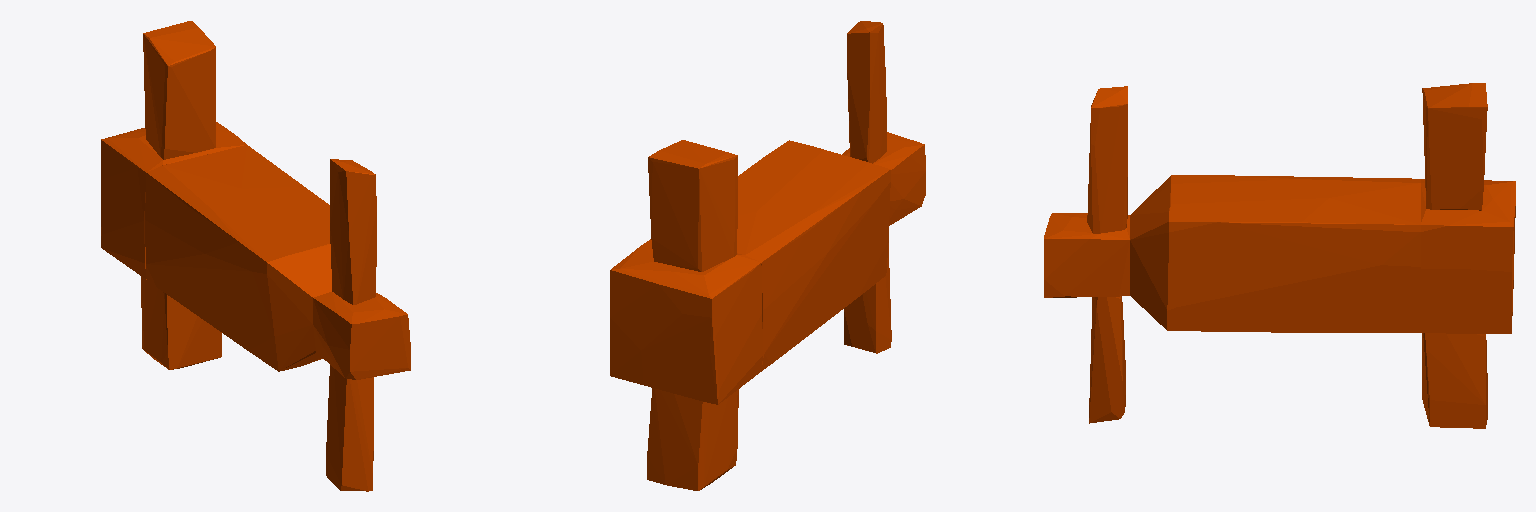
URDF robot description (blob584):
<robot name="blob584">
  <link name="random_obj_584">
    <contact>
      <lateral_friction value="1.0"/>
      <rolling_friction value="0.0"/>
      <inertia_scaling value="3.0"/>
      <contact_cfm value="0.0"/>
      <contact_erp value="1.0"/>
    </contact>
    <inertial>
      <origin rpy="0 0 0" xyz="0 0 0"/>
      <mass value="0.1"/>
      <inertia ixx="1" ixy="0" ixz="0" iyy="1" iyz="0" izz="0"/>
    </inertial>
    <visual>
      <origin rpy="0 0 0" xyz="0 0 0"/>
      <geometry>
        <mesh filename="584.obj" scale="0.015 0.015 0.015"/>
      </geometry>
      <material name="blockmat">
        <color rgba="0.81 0.32 0.01 1"/>
      </material>
    </visual>
    <collision>
      <origin rpy="0 0 0" xyz="0 0 0"/>
      <geometry>
        <mesh filename="584.obj" scale="0.015 0.015 0.015"/>
      </geometry>
    </collision>
  </link>
</robot>

--- What the picture shows (computed from the rendered views, not written in the file) ---
Views: 3 orthographic renders of the robot side by side, from view 1: azimuth 30°, elevation 25°; view 2: azimuth 150°, elevation 25°; view 3: azimuth 270°, elevation 25°.
Robot: blob584 — 1 links, 0 joints (none); root link random_obj_584; default pose: every joint at zero.
Links seen in each view (by area): view 1: random_obj_584; view 2: random_obj_584; view 3: random_obj_584.
Link boxes in pixels (x1,y1,x2,y2): random_obj_584: (101,21,410,491); random_obj_584: (610,21,925,490); random_obj_584: (1044,83,1515,428).
Size in the robot's own frame: 0.0324 by 0.1222 by 0.0932 metres.
Meshes: 1 distinct files referenced, 1 mesh visuals loaded (1 OBJ).